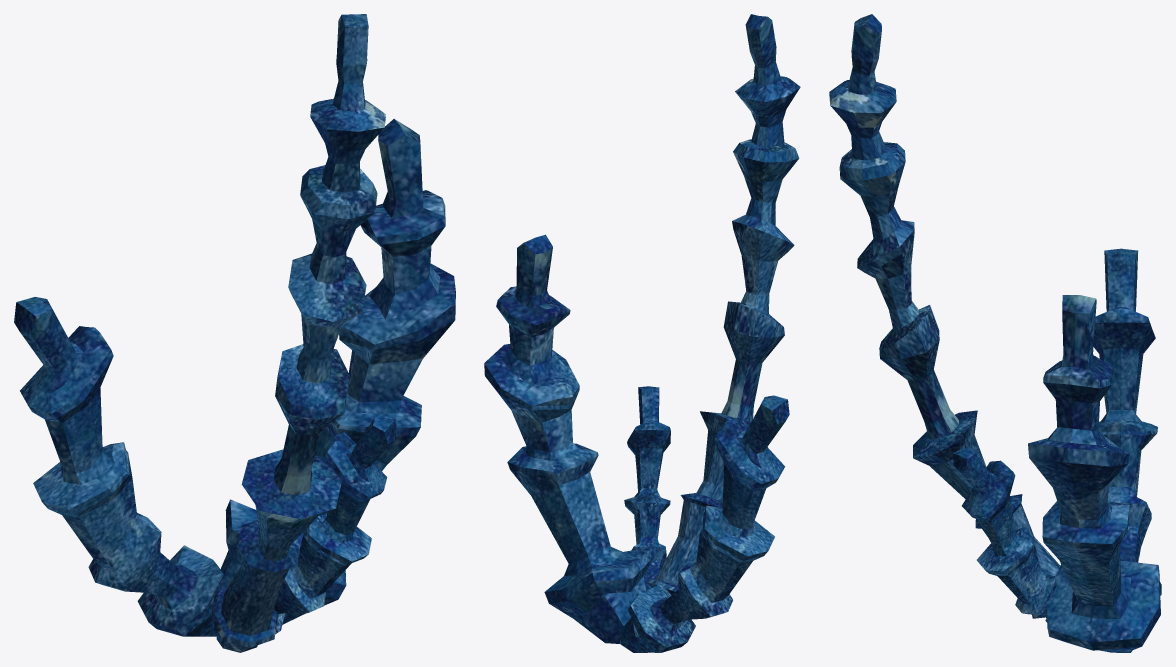
The model's file is coral_azul.glb.
The picture shows the model from 3 angles, left to right: view 1: azimuth 30°, elevation 25°; view 2: azimuth 150°, elevation 25°; view 3: azimuth 270°, elevation 25°; orthographic projection. The views are drawn at different scales.
Parts seen in each view (by area): view 1: Object_4; view 2: Object_4; view 3: Object_4.
Part boxes in pixels (x1=…): Object_4: x1=14, y1=14, x2=455, y2=652; Object_4: x1=484, y1=14, x2=800, y2=652; Object_4: x1=829, y1=14, x2=1161, y2=652.
Bounding box in the file's own units: 3.93 × 6.78 × 3.3.
Materials: 1 (1 with a texture image).
